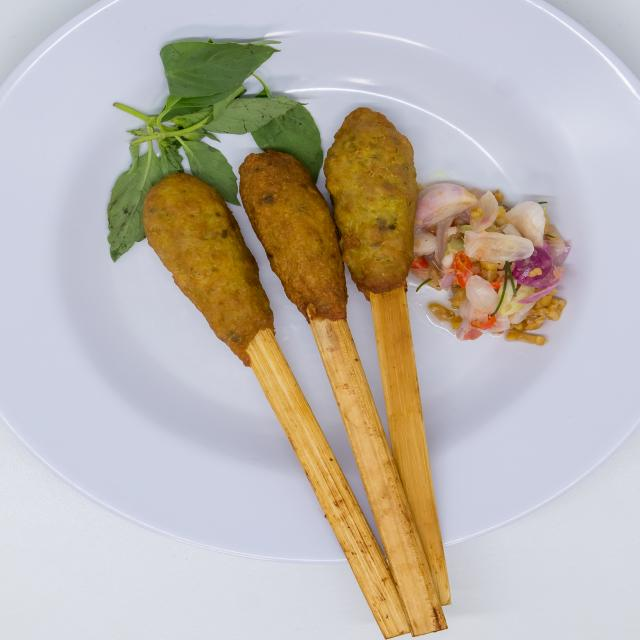Sate-Lilit: (89, 36, 579, 576)
